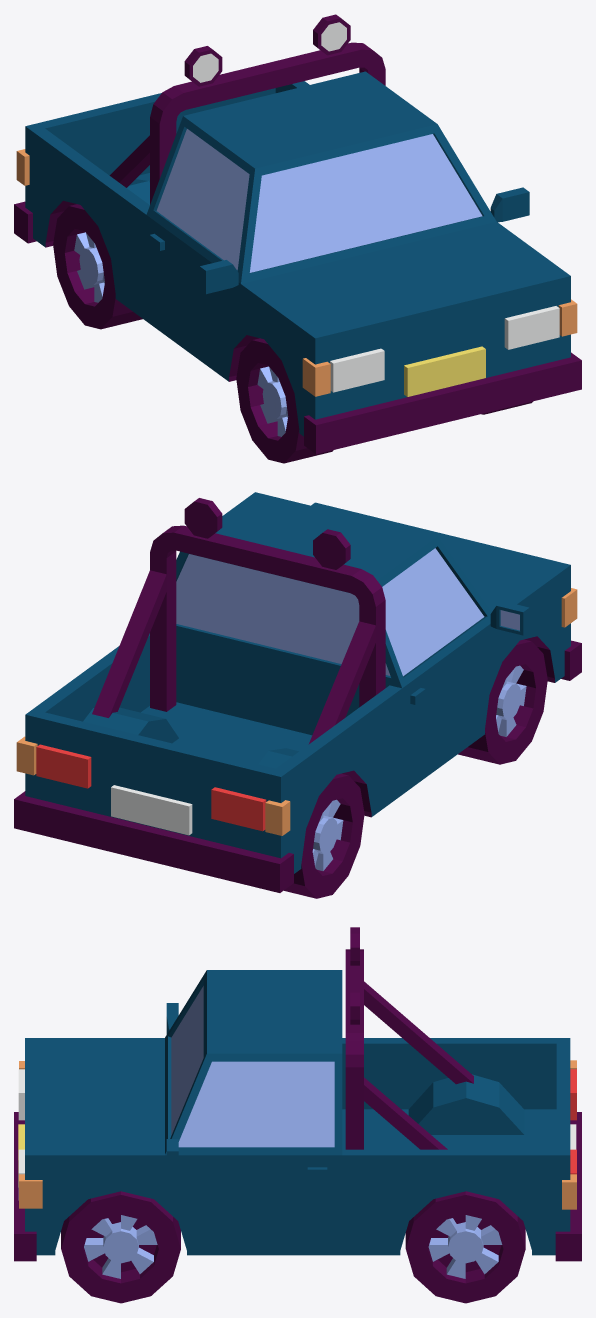
File: car1_truck.glb
3 renders of one model, top to bottom at view 1: azimuth 30°, elevation 25°; view 2: azimuth 150°, elevation 25°; view 3: azimuth 270°, elevation 25°, orthographic. The views are drawn at different scales.
Parts seen in each view (by area): view 1: truckbody, wheel_br, wheel_fr; view 2: truckbody, wheel_fr, wheel_br; view 3: truckbody, wheel_bl, wheel_fl.
Boxes of the visible parts, x1,y1,x2,y2 form: truckbody: [14, 14, 581, 454]; wheel_br: [53, 204, 142, 329]; wheel_fr: [236, 338, 333, 463]; truckbody: [14, 492, 581, 892]; wheel_fr: [458, 639, 547, 764]; wheel_br: [284, 773, 364, 898]; truckbody: [14, 927, 581, 1261]; wheel_bl: [405, 1191, 525, 1303]; wheel_fl: [61, 1191, 180, 1303].
Size of the model in its own units: 1.35 by 1.22 by 2.19.
1 material, 1 textured.
